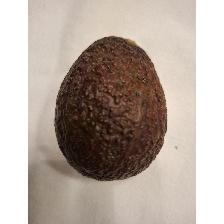Avocado: (52, 32, 172, 184)
